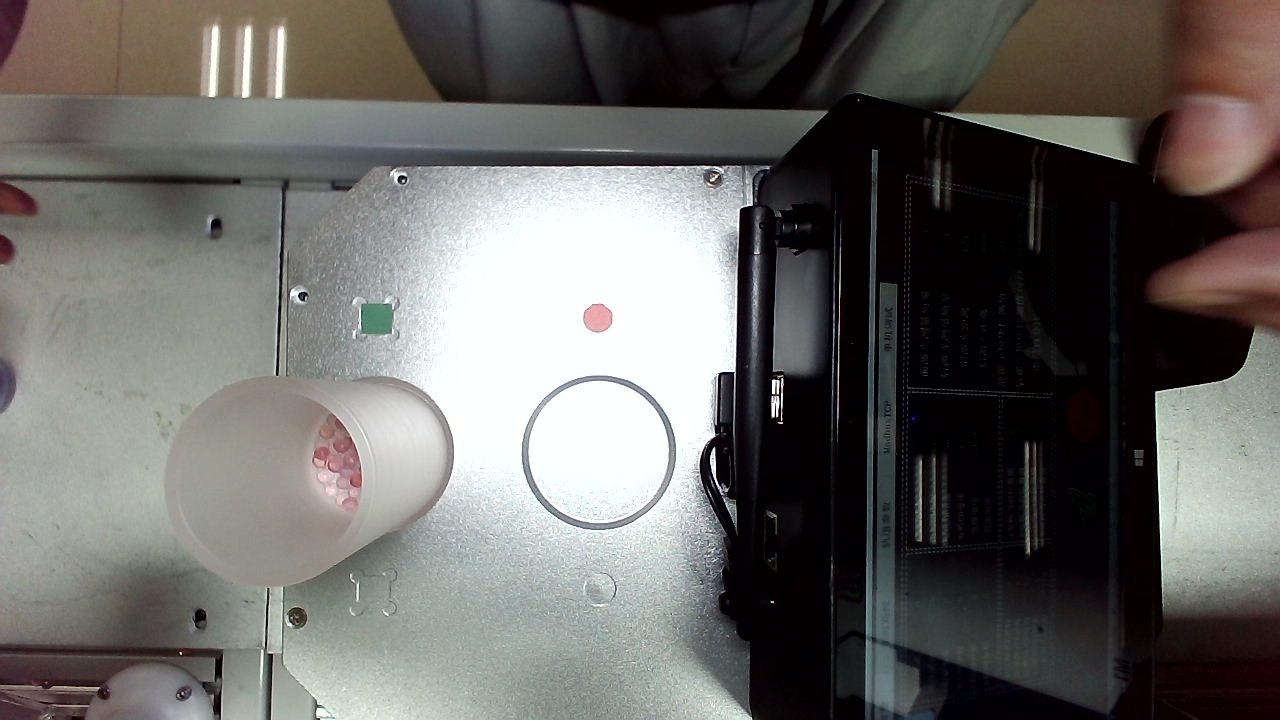bad: (770, 587, 817, 634), (254, 88, 302, 133), (282, 586, 327, 634), (756, 36, 801, 83), (745, 3, 786, 47), (258, 164, 301, 205), (705, 630, 746, 671), (477, 636, 518, 677), (285, 27, 325, 66), (397, 166, 436, 206), (832, 52, 873, 89), (529, 438, 565, 480), (358, 91, 397, 129), (821, 498, 858, 538), (393, 451, 430, 489), (830, 128, 866, 167), (843, 187, 880, 224), (852, 495, 891, 530), (843, 275, 879, 312), (852, 455, 886, 489), (811, 277, 843, 313)
pass: (608, 591, 648, 644), (587, 143, 625, 198), (386, 382, 427, 429), (465, 498, 508, 542), (373, 516, 415, 559), (369, 476, 409, 520), (330, 510, 372, 550), (576, 291, 615, 333), (768, 226, 805, 270), (744, 630, 782, 672), (554, 224, 592, 265), (851, 408, 885, 452), (554, 263, 592, 301), (683, 597, 719, 635), (769, 169, 803, 209), (670, 635, 706, 672), (740, 246, 778, 281), (578, 16, 612, 54)
toolong: (813, 391, 854, 462), (287, 139, 331, 201), (649, 558, 706, 602)
unpass: (832, 216, 881, 267), (832, 1, 875, 51), (267, 428, 313, 473), (471, 564, 509, 614), (283, 296, 327, 337), (294, 61, 337, 100), (443, 240, 478, 285), (557, 537, 596, 577), (360, 312, 399, 351), (473, 50, 511, 90), (823, 564, 863, 601), (836, 530, 873, 569), (318, 33, 355, 71), (272, 202, 311, 238), (536, 25, 571, 64), (780, 292, 816, 329), (825, 166, 863, 198), (766, 549, 800, 583)
